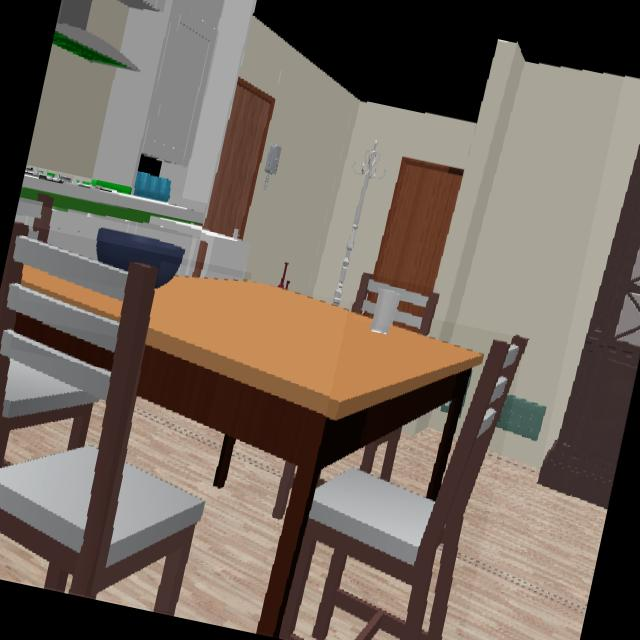bookshelf: (538, 144, 640, 508)
cabinet: (93, 0, 223, 187)
chair: (0, 223, 202, 613), (280, 336, 526, 640), (353, 275, 437, 335)
countertop: (19, 174, 204, 226)
stove: (25, 165, 95, 188)
table: (137, 277, 483, 635), (21, 268, 121, 320), (14, 318, 112, 369)
